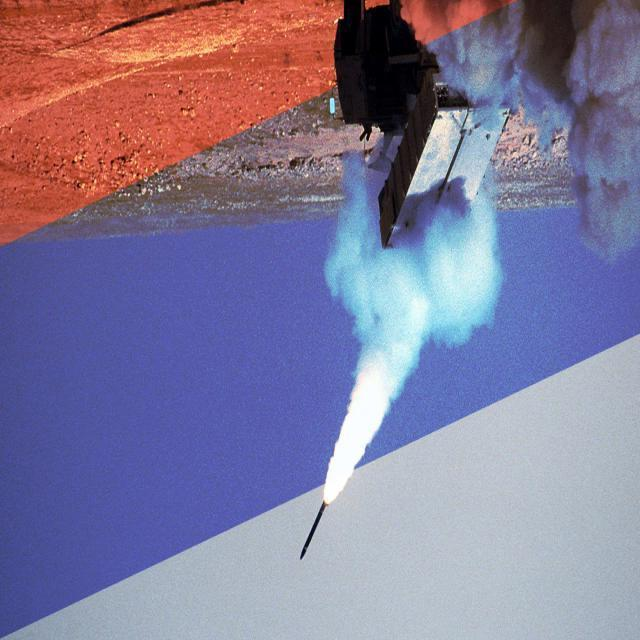missile: (298, 500, 331, 562)
